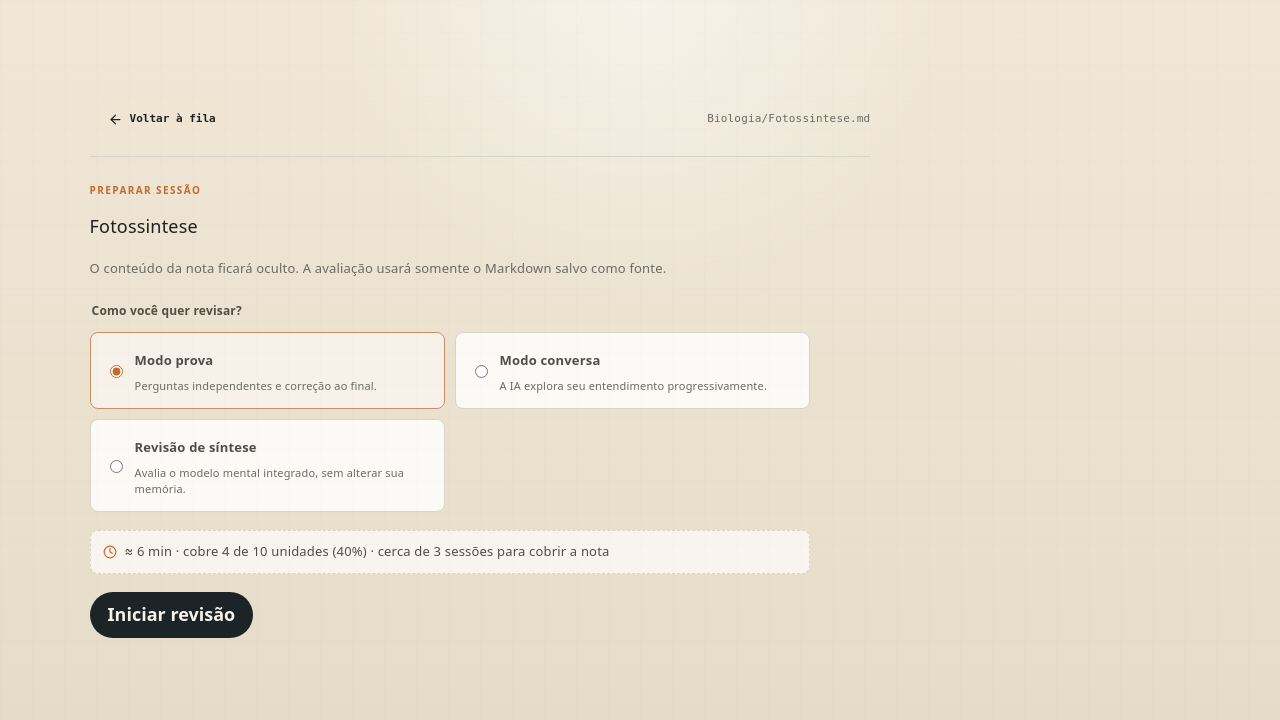
Test case: ReviewSessionPage › shows the estimated session plan on the setup screen and refreshes it per mode
Expected: the text "cobre 4 de 10 unidades (40%)" is shown, [125,541,610,563]
Expected: the text "cerca de 3 sessões para cobrir" is shown, [378,542,566,560]
What coordinates should you click on to do the following:
click the radio button labelled "Modo conversa"
I would click on:
 (481, 372)
Its box is [475,349,488,394].
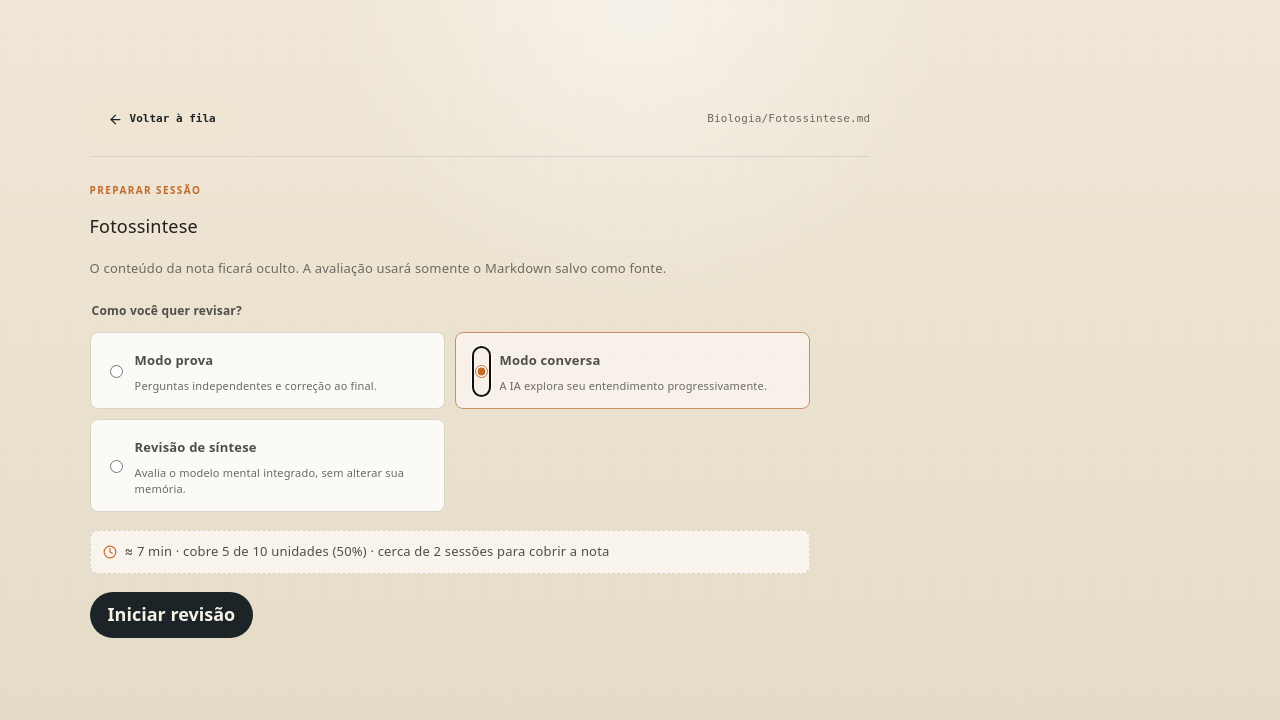
Result: the text "cobre 5 de 10 unidades (50%)" is shown at [125,541,610,563]
What coordinates should you click on to do the following:
click the radio button labelled "Modo prova Perguntas independentes e correção ao final."
I would click on:
 (116, 372)
Its box is [110,349,123,394].
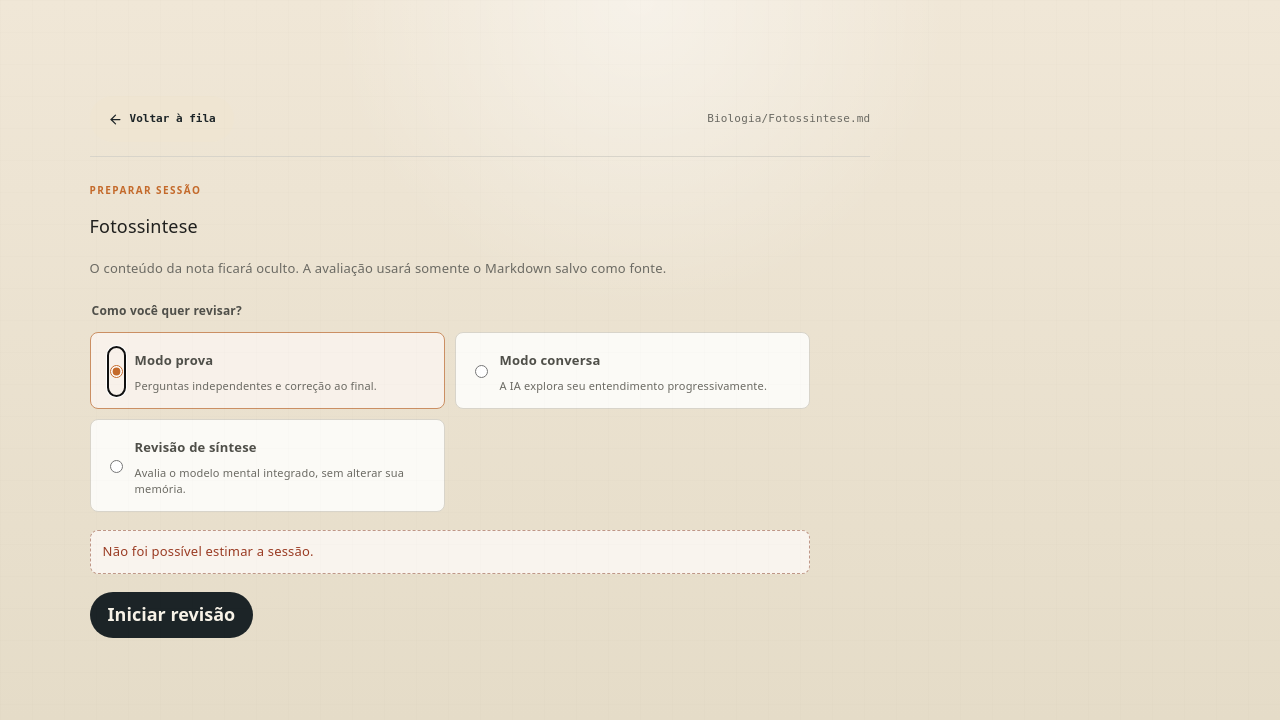
Result: the text "Não foi possível estimar a sessão." is shown at [90,530,810,574]
